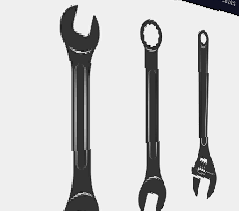wrench: (193, 26, 218, 211)
